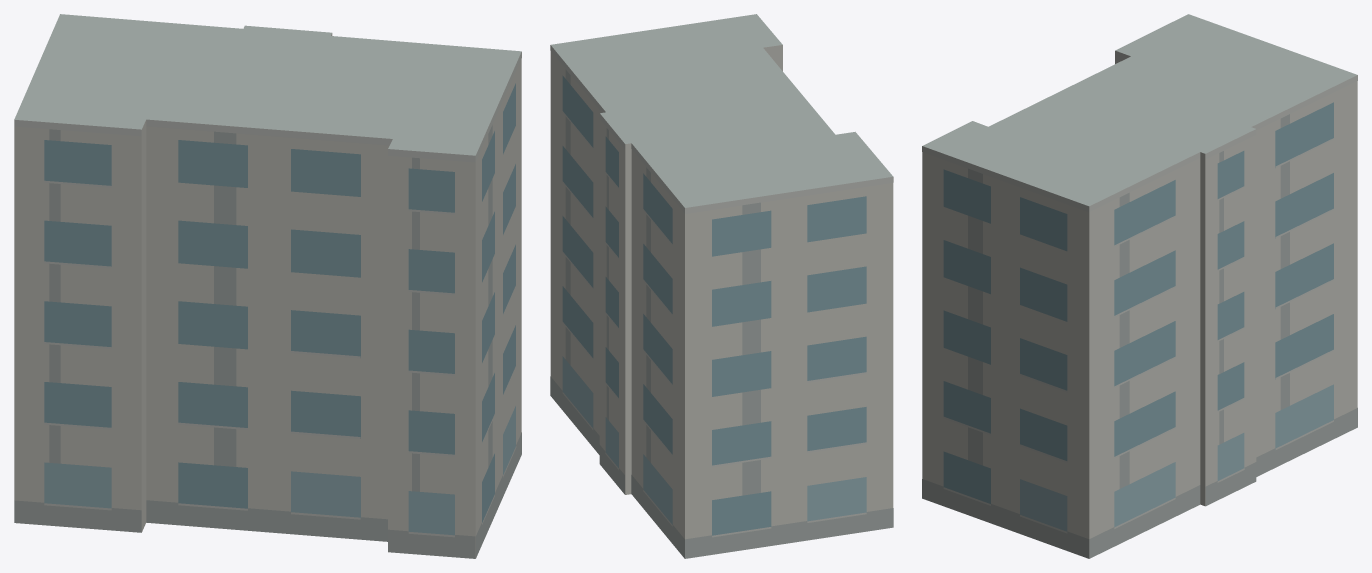
File: survey-upis-32965147.glb
3 views of the same model, side by side, from view 1: azimuth 30°, elevation 25°; view 2: azimuth 150°, elevation 25°; view 3: azimuth 270°, elevation 25° (orthographic). The views are drawn at different scales.
Visible parts, largest first — view 1: survey-upis-32965147.tmp; view 2: survey-upis-32965147.tmp; view 3: survey-upis-32965147.tmp.
Part boxes in pixels (box(x1,y1,x2,y2)): survey-upis-32965147.tmp: box(14, 14, 521, 558); survey-upis-32965147.tmp: box(550, 14, 893, 558); survey-upis-32965147.tmp: box(922, 14, 1357, 558).
Bounding box in the file's own units: 16.92 × 14.45 × 16.19.
